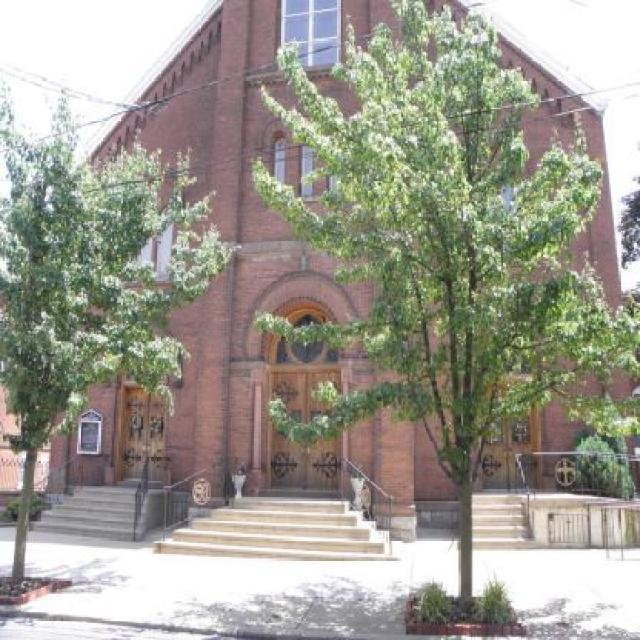stair: (154, 500, 382, 551), (32, 488, 152, 544), (472, 496, 537, 550)
